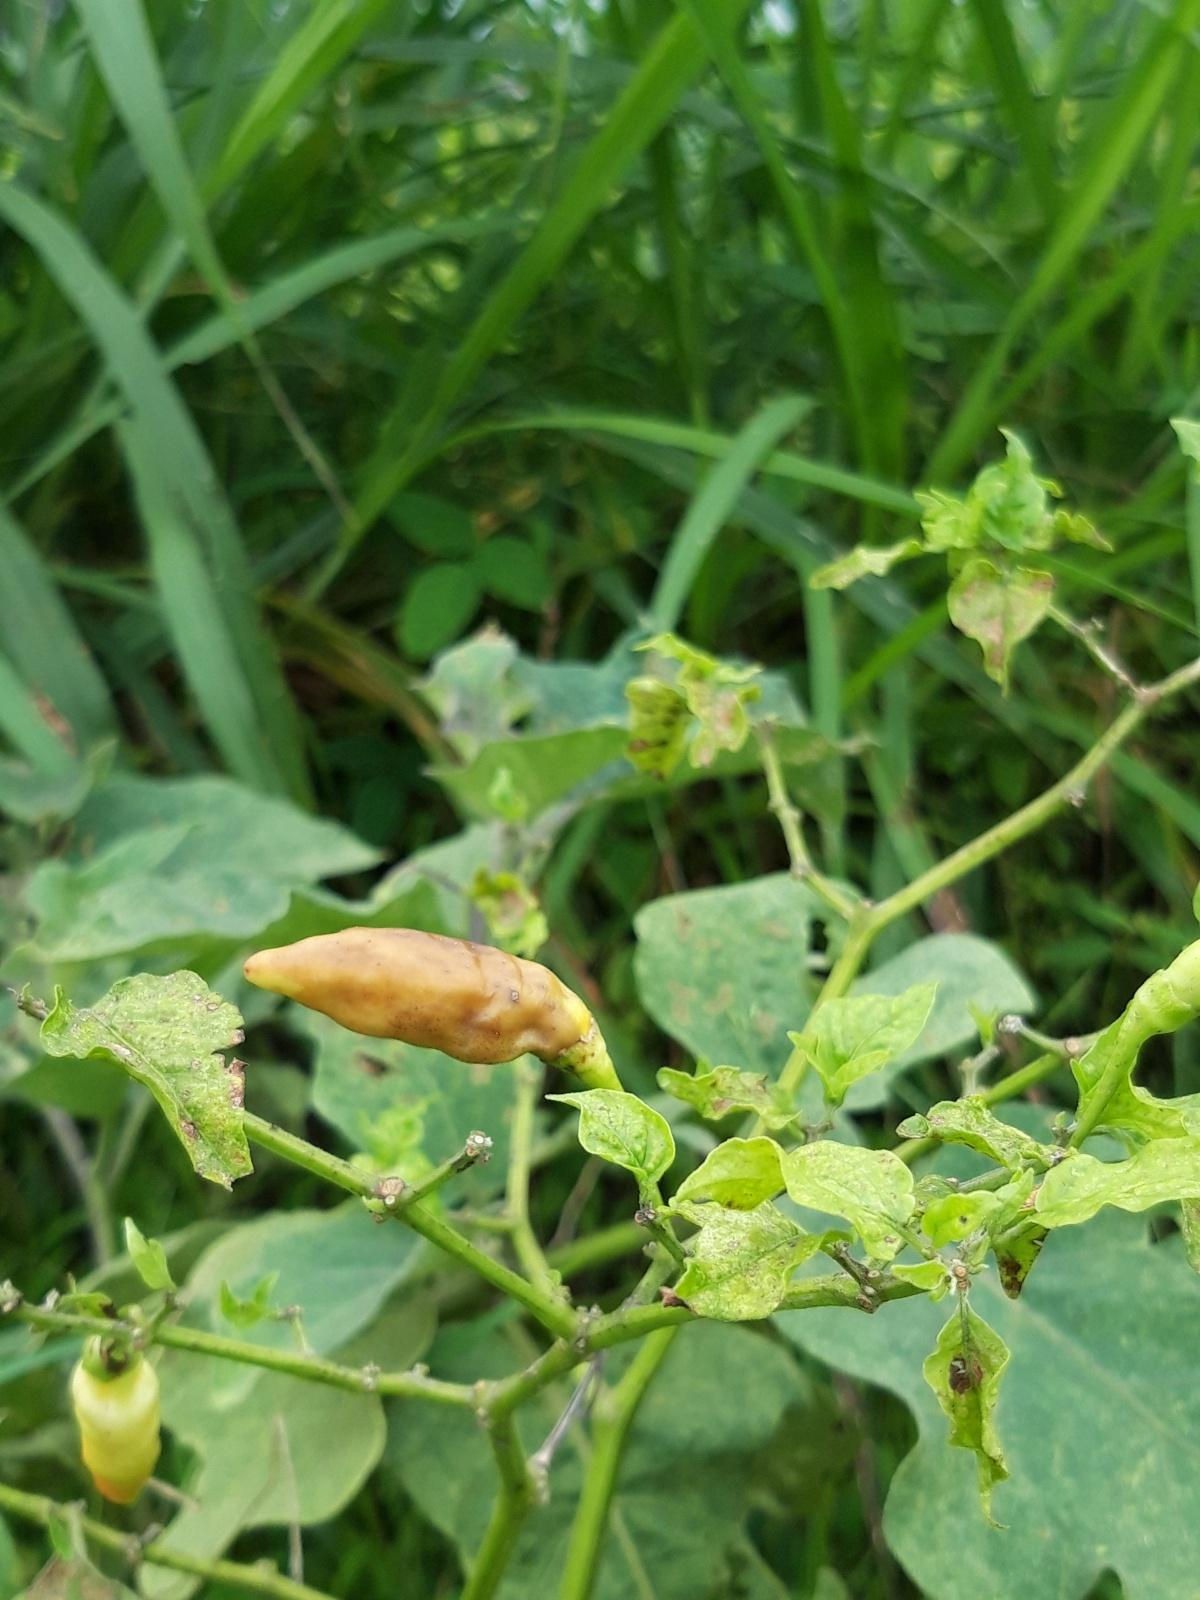lalat_buah: (242, 921, 609, 1076)
